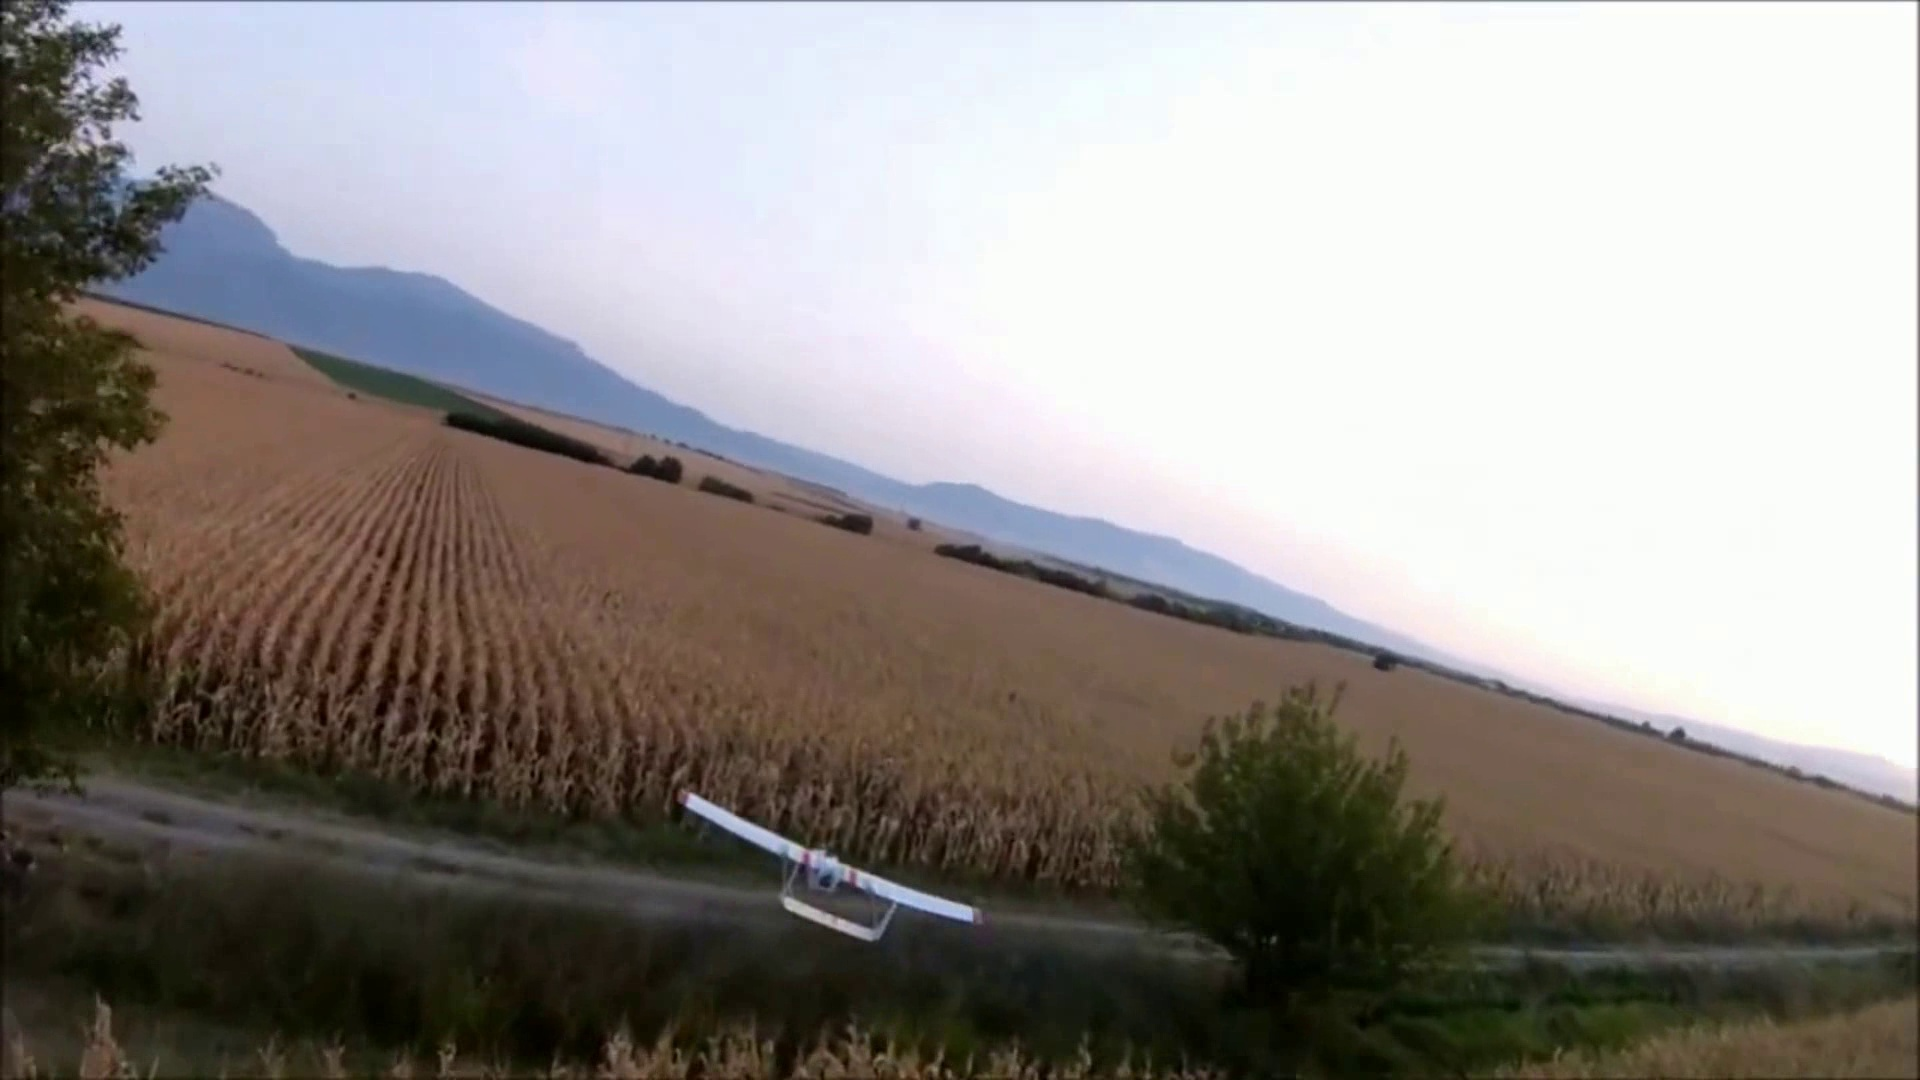airplane: (678, 789, 980, 945)
